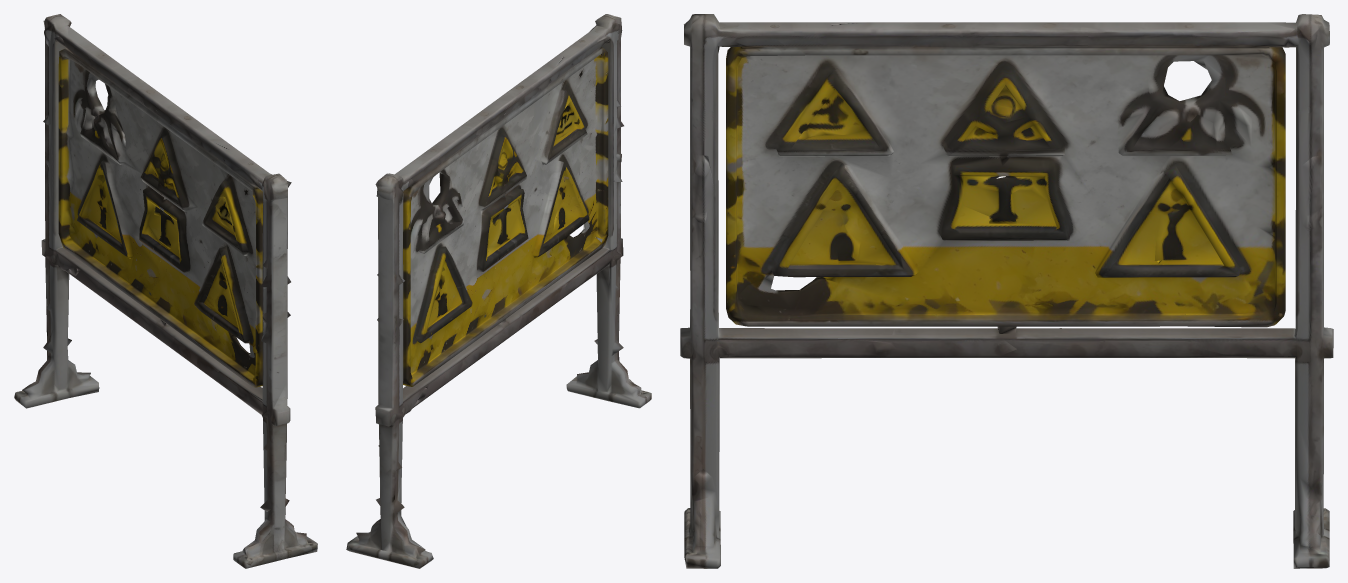
File: 封锁告示牌.glb
3 views of the same model, side by side, from view 1: azimuth 30°, elevation 25°; view 2: azimuth 150°, elevation 25°; view 3: azimuth 270°, elevation 25° (orthographic). The views are drawn at different scales.
Visible parts, largest first — view 1: tripo_node_5f0f4771-560d-4af9-b5a3-520d1c673dd6; view 2: tripo_node_5f0f4771-560d-4af9-b5a3-520d1c673dd6; view 3: tripo_node_5f0f4771-560d-4af9-b5a3-520d1c673dd6.
Part boxes in pixels (left/top/right/bottom): tripo_node_5f0f4771-560d-4af9-b5a3-520d1c673dd6: left=14, top=14, right=317, bottom=568; tripo_node_5f0f4771-560d-4af9-b5a3-520d1c673dd6: left=346, top=14, right=651, bottom=568; tripo_node_5f0f4771-560d-4af9-b5a3-520d1c673dd6: left=680, top=14, right=1333, bottom=568.
Size of the model in its own units: 0.1853 by 0.8935 by 0.9996.
1 material, 1 textured.
